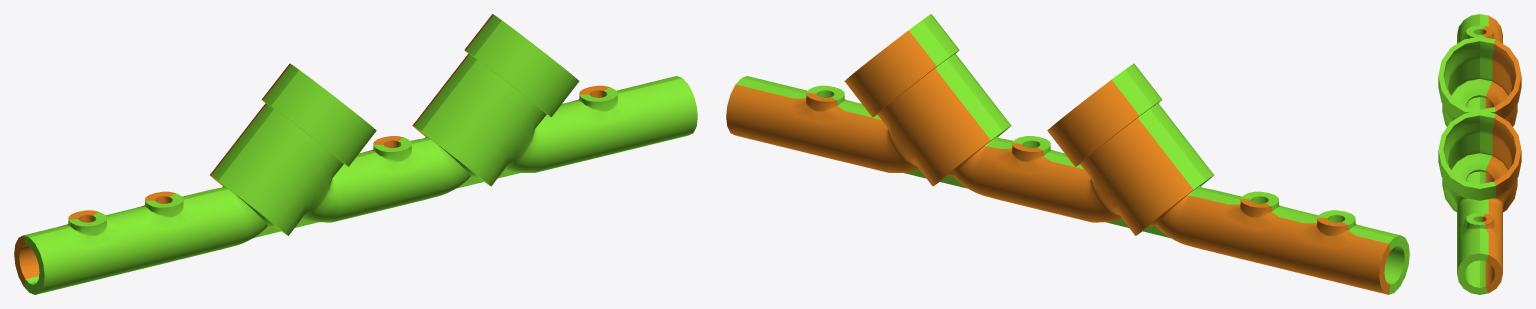
File: transparent_pipe_Mesh1.fbx
3 renders of one model, left to right at view 1: azimuth 30°, elevation 25°; view 2: azimuth 150°, elevation 25°; view 3: azimuth 270°, elevation 25°, orthographic. The views are drawn at different scales.
Visible parts, largest first — view 1: DC_Housing_LP_inner.001; view 2: DC_Housing_LP_inner.001; view 3: DC_Housing_LP_inner.001.
Part boxes in pixels (left/top/right/bottom): DC_Housing_LP_inner.001: left=14, top=14, right=697, bottom=294; DC_Housing_LP_inner.001: left=726, top=14, right=1409, bottom=294; DC_Housing_LP_inner.001: left=1438, top=14, right=1521, bottom=294.
Bounding box in the file's own units: 42.8 × 9.84 × 6.3.
